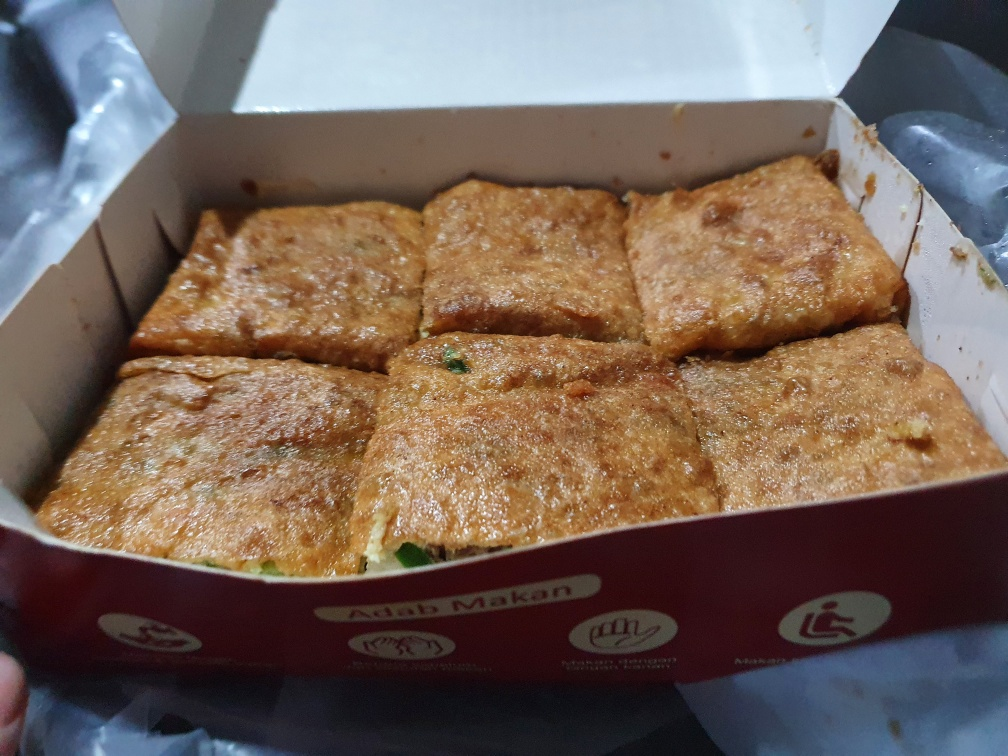martabak telor: (70, 348, 370, 590), (389, 318, 686, 553), (604, 169, 923, 347), (676, 349, 986, 506), (161, 189, 431, 369), (412, 171, 638, 337)
